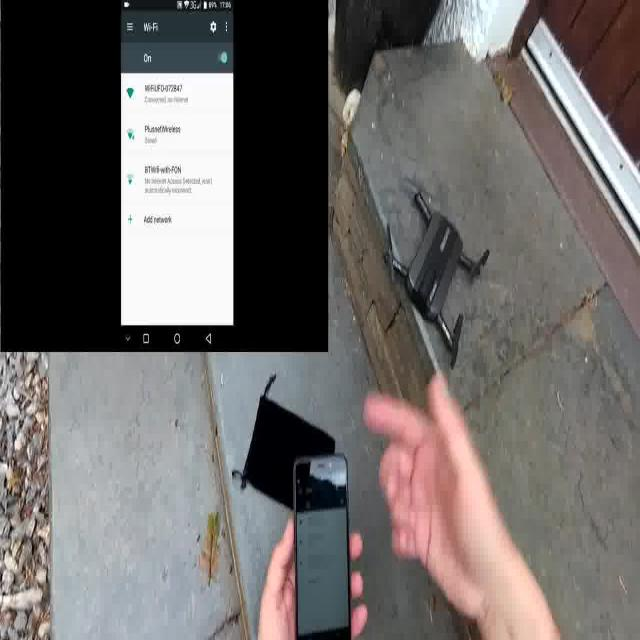Drone_FW: (376, 182, 486, 364)
